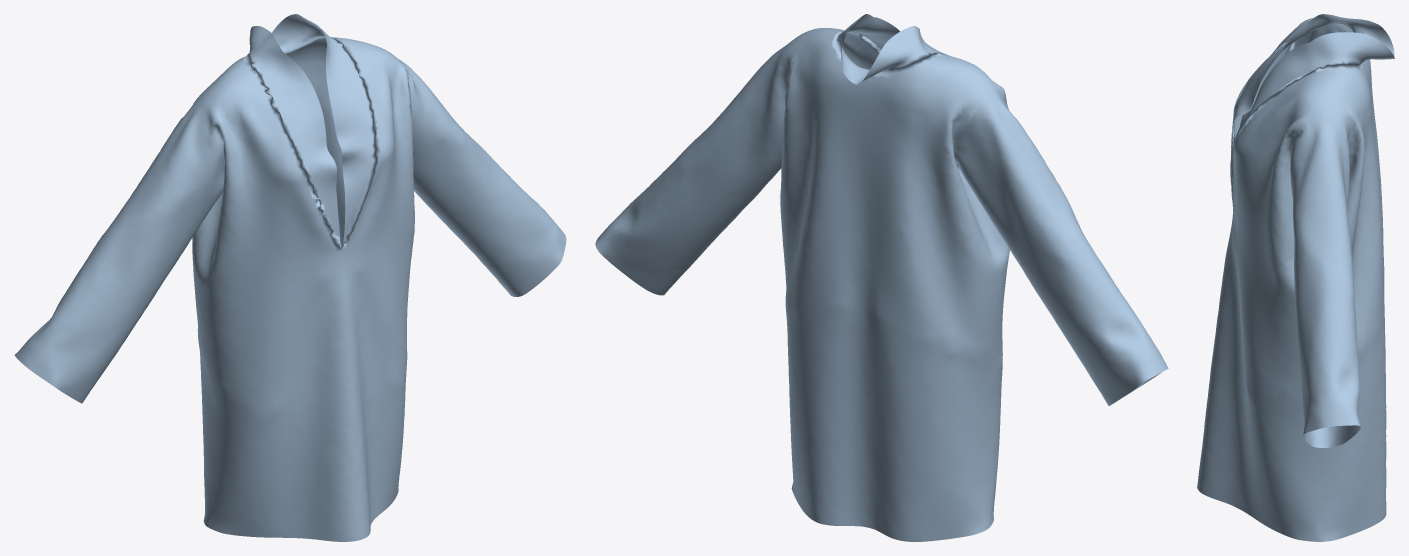
Rendered from coat_XL.glb.
3 views of the same model, side by side, from view 1: azimuth 30°, elevation 25°; view 2: azimuth 150°, elevation 25°; view 3: azimuth 270°, elevation 25° (orthographic). The views are drawn at different scales.
Parts seen in each view (by area): view 1: geometry_0; view 2: geometry_0; view 3: geometry_0.
Part boxes in pixels (x1,y1,x2,y2): geometry_0: (14, 14, 566, 541); geometry_0: (595, 14, 1168, 541); geometry_0: (1197, 14, 1394, 541).
Bounding box in the file's own units: 1.25 × 1.05 × 0.3948.
